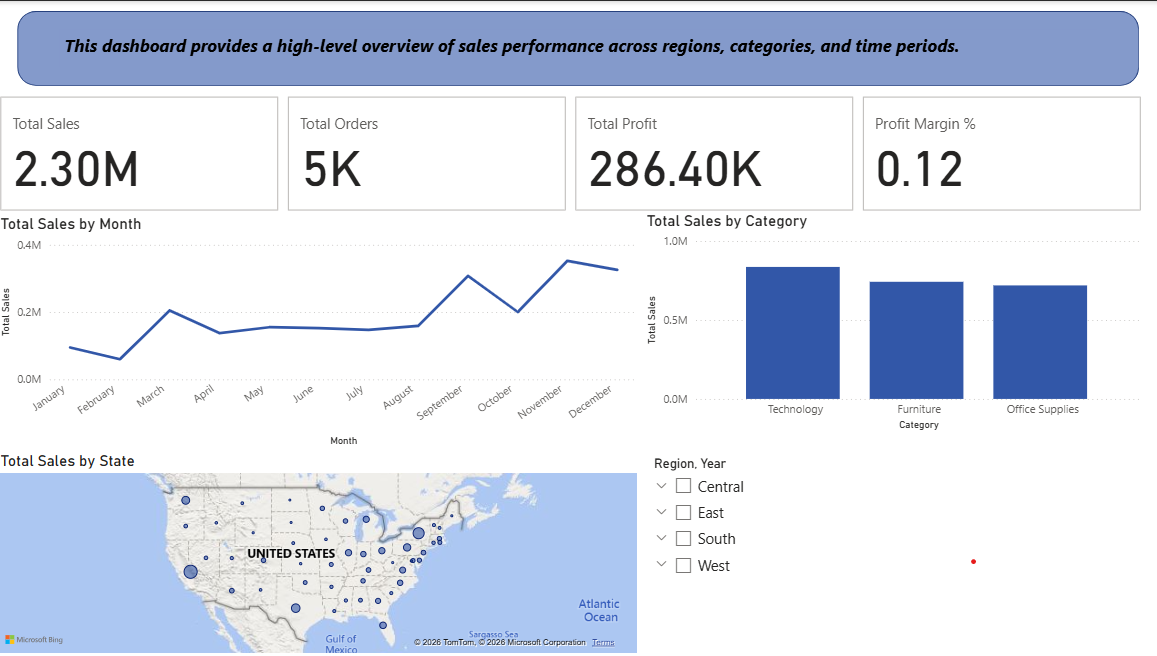

What the dashboard file says about the page in this screenshot:
{"tool":"powerbi","page":{"name":" Sales Overview","canvas":[1280,720],"ordinal":0},"visuals":[{"type":"group","id":"g1","title":"Group 1","box":[0,99.5,1262.6,135.6],"z":0},{"type":"cardVisual","fields":{"Data":["Sample - Superstore.Total Profit"]},"box":[631.2,99.5,315.6,135.8],"z":0,"group":"g1"},{"type":"cardVisual","fields":{"Data":["Sample - Superstore.Profit Margin %"]},"box":[946.8,99.5,315.6,135.8],"z":1000,"group":"g1"},{"type":"lineChart","fields":{"Category":["Sample - Superstore.Order Date.Variation.Date Hierarchy.Year","Sample - Superstore.Order Date.Variation.Date Hierarchy.Quarter","Sample - Superstore.Order Date.Variation.Date Hierarchy.Month","Sample - Superstore.Order Date.Variation.Date Hierarchy.Day"],"Y":["Sample - Superstore.Total Sales"]},"box":[0,235.1,709.1,258.7],"z":1000},{"type":"cardVisual","fields":{"Data":["Sample - Superstore.Total Sales"]},"box":[0,99.5,315.6,135.8],"z":2000,"group":"g1"},{"type":"columnChart","fields":{"Y":["Sample - Superstore.Total Sales"],"Category":["Sample - Superstore.Category"]},"box":[709.1,230.1,553.6,246.3],"z":2000},{"type":"cardVisual","fields":{"Data":["Sample - Superstore.Total Orders"]},"box":[315.6,99.5,315.6,135.8],"z":3000,"group":"g1"},{"type":"map","fields":{"Size":["Sample - Superstore.Total Sales"],"Category":["Sample - Superstore.State"]},"box":[0,493.9,709.1,226.4],"z":3000},{"type":"slicer","fields":{"Values":["Sample - Superstore.Region","Sample - Superstore.Order Date.Variation.Date Hierarchy.Year"]},"box":[709.1,493.9,553.6,226.4],"z":4000},{"type":"shape","box":[23.6,11.2,1231.5,82.1],"z":5000},{"type":"textbox","box":[69.7,31.1,1138.2,41.1],"z":6000}]}

Visuals, with their boxes in screenshot pixels (x1, y1, x2, y2), scaled from the page's 1280x720 canvas onto the 1157x656 screenshot:
"Group 1" group: rect(0, 91, 1141, 214)
cardVisual - Sample - Superstore.Total Profit: rect(571, 91, 856, 214)
cardVisual - Sample - Superstore.Profit Margin %: rect(856, 91, 1141, 214)
lineChart - Sample - Superstore.Order Date.Variation.Date Hierarchy.Year x Sample - Superstore.Order Date.Variation.Date Hierarchy.Quarter: rect(0, 214, 641, 450)
cardVisual - Sample - Superstore.Total Sales: rect(0, 91, 285, 214)
columnChart - Sample - Superstore.Total Sales x Sample - Superstore.Category: rect(641, 210, 1141, 434)
cardVisual - Sample - Superstore.Total Orders: rect(285, 91, 571, 214)
map - Sample - Superstore.Total Sales x Sample - Superstore.State: rect(0, 450, 641, 655)
slicer - Sample - Superstore.Region x Sample - Superstore.Order Date.Variation.Date Hierarchy.Year: rect(641, 450, 1141, 655)
shape: rect(21, 10, 1134, 85)
textbox: rect(63, 28, 1092, 66)
